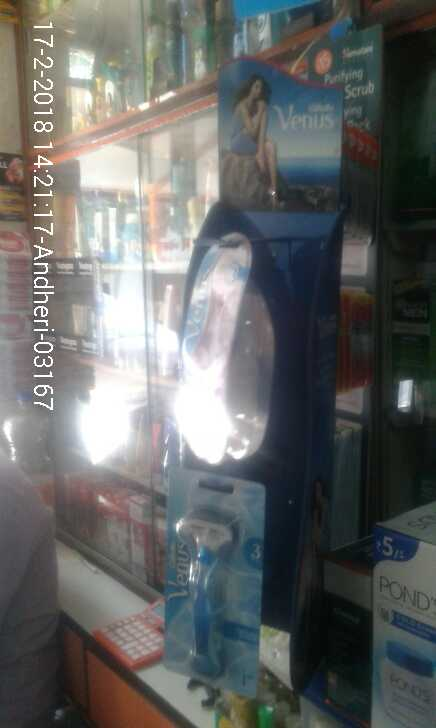beauty: (163, 470, 263, 697)
